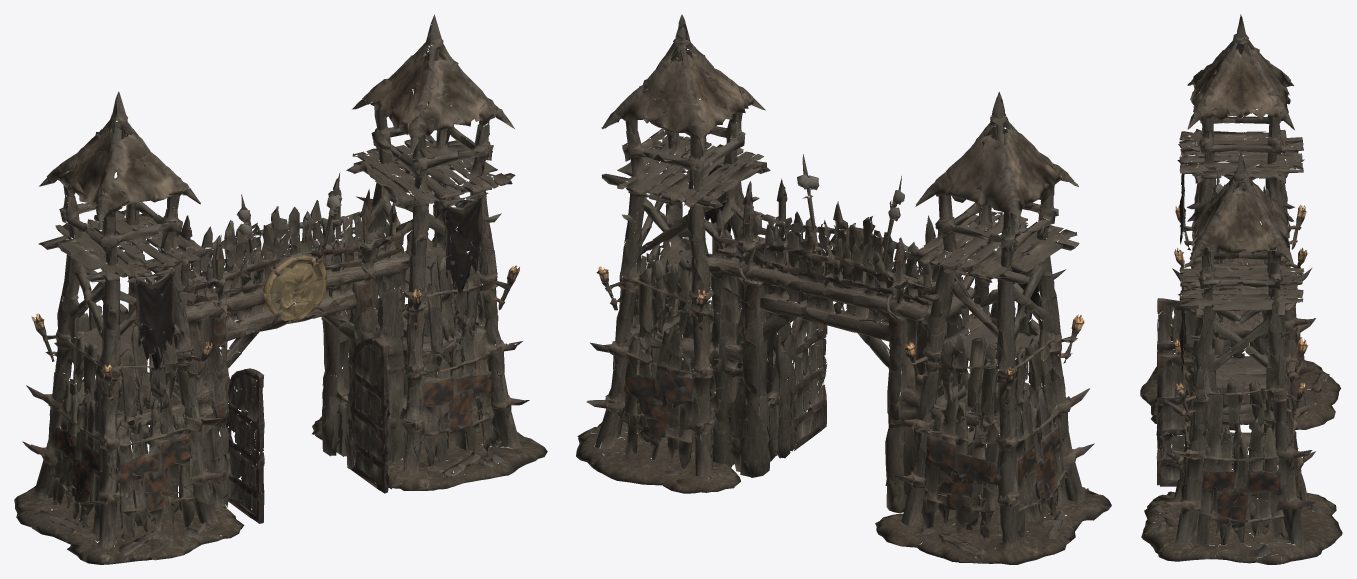
Rendered from gate.glb.
3 renders of one model, left to right at view 1: azimuth 30°, elevation 25°; view 2: azimuth 150°, elevation 25°; view 3: azimuth 270°, elevation 25°, orthographic. The views are drawn at different scales.
Visible parts, largest first — view 1: Gate; view 2: Gate; view 3: Gate.
Boxes of the visible parts, bbox=[...] form: Gate: bbox=[14, 14, 547, 564]; Gate: bbox=[576, 14, 1111, 564]; Gate: bbox=[1140, 14, 1342, 564].
Bounding box in the file's own units: 11.5 × 9.77 × 4.72.
Materials: 1 (1 with a texture image).
